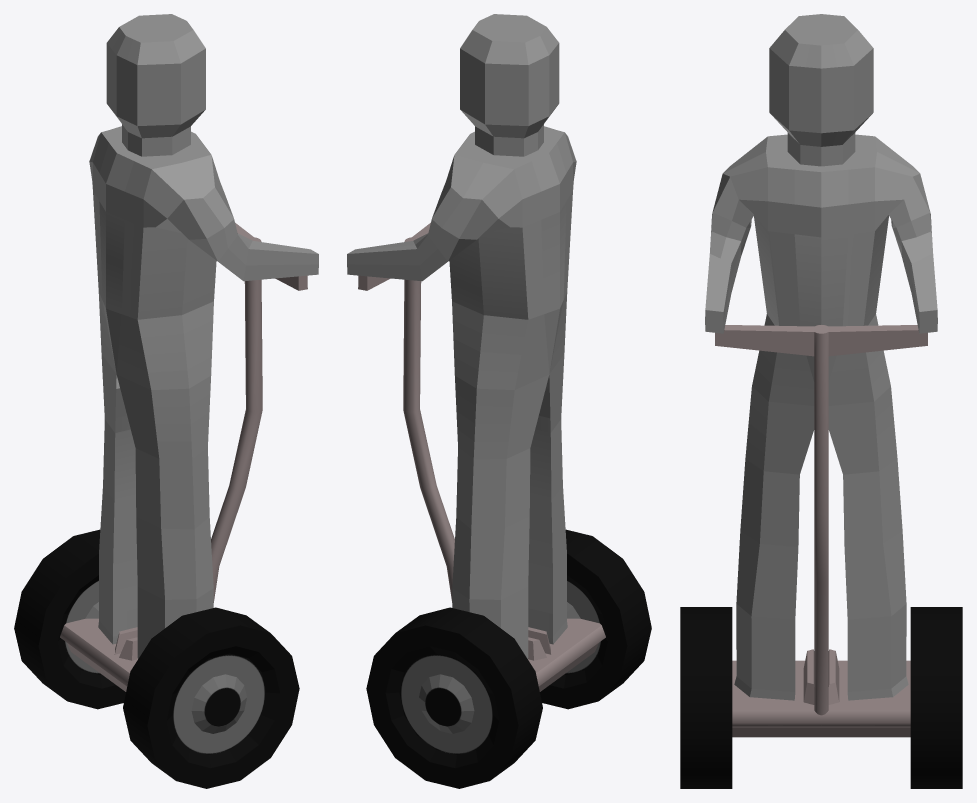
Rendered from MaleMesh_Segway.FBX.
3 views of the same model, side by side, from view 1: azimuth 30°, elevation 25°; view 2: azimuth 150°, elevation 25°; view 3: azimuth 270°, elevation 25° (orthographic). The views are drawn at different scales.
Visible parts, largest first — view 1: CharacterMesh, Segway; view 2: CharacterMesh, Segway; view 3: CharacterMesh, Segway.
Boxes of the visible parts, x1,y1,x2,y2 form: CharacterMesh: [89, 14, 318, 658]; Segway: [14, 222, 307, 788]; CharacterMesh: [347, 14, 576, 658]; Segway: [358, 222, 651, 788]; CharacterMesh: [705, 14, 937, 700]; Segway: [680, 325, 962, 788].
Bounding box in the file's own units: 26.89 × 98.99 × 33.79.
